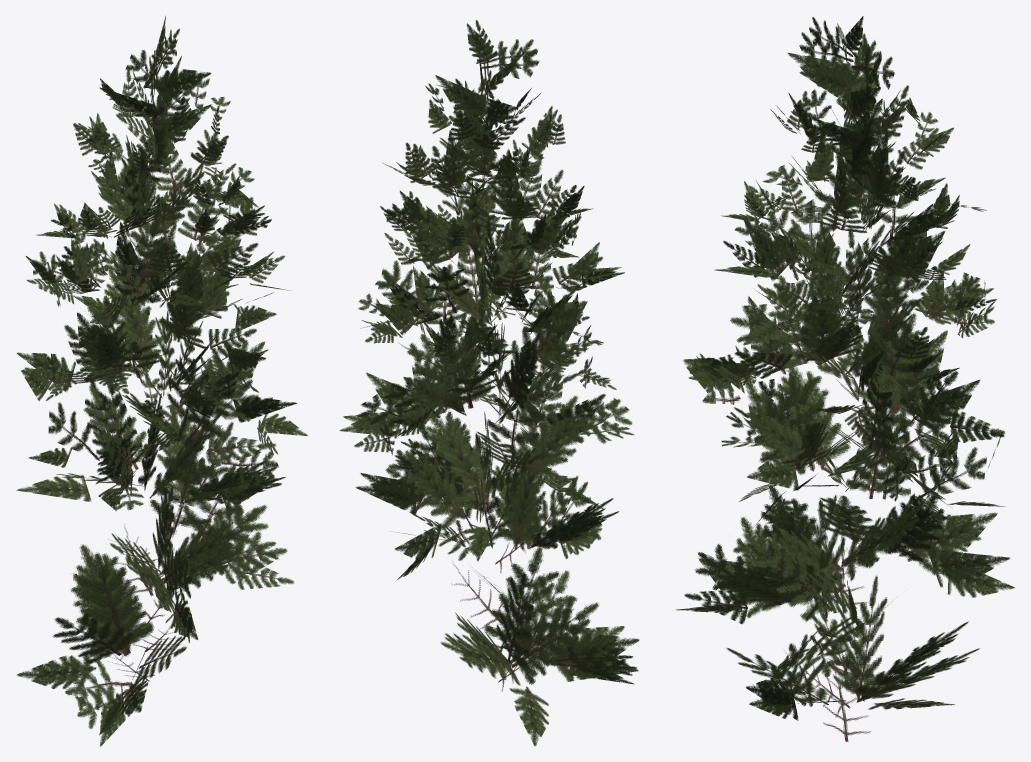
The model's file is douglas_fir.glb.
3 views of the same model, side by side, from view 1: azimuth 30°, elevation 25°; view 2: azimuth 150°, elevation 25°; view 3: azimuth 270°, elevation 25° (orthographic). The views are drawn at different scales.
Parts seen in each view (by area): view 1: A_LOD1; view 2: A_LOD1; view 3: A_LOD1.
Boxes of the visible parts, box(x1,y1,x2,y2) form: A_LOD1: box(16, 16, 307, 746); A_LOD1: box(339, 20, 639, 746); A_LOD1: box(675, 16, 1014, 741).
Size of the model in its own units: 1.42 by 3.48 by 1.44.
Materials: 2 (2 with a texture image).
